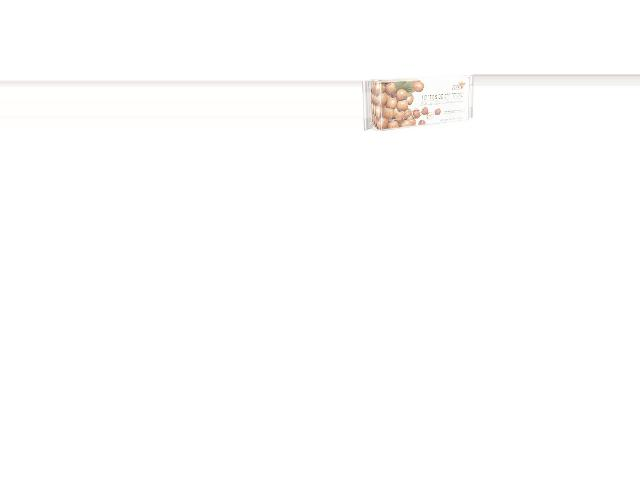chocolate: (363, 78, 474, 131)
